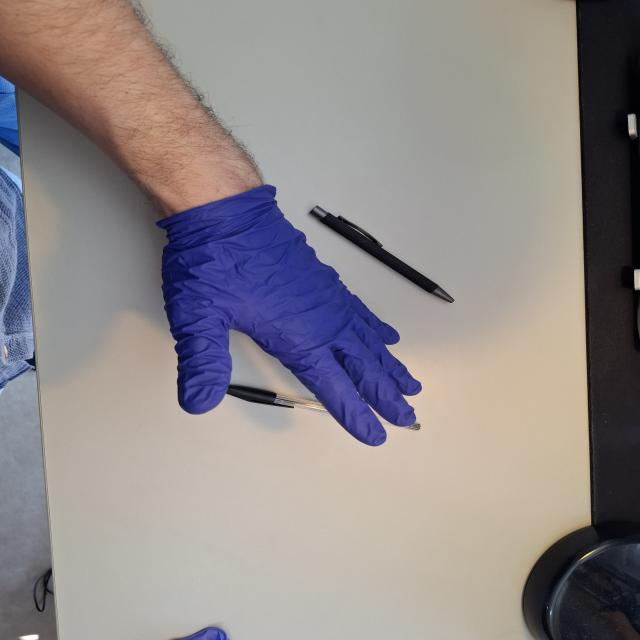glove_on: (151, 185, 425, 448)
